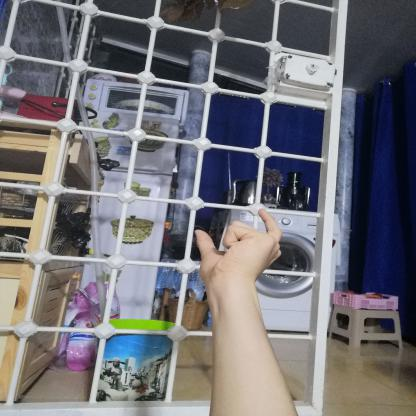NOON: (182, 199, 293, 298)
